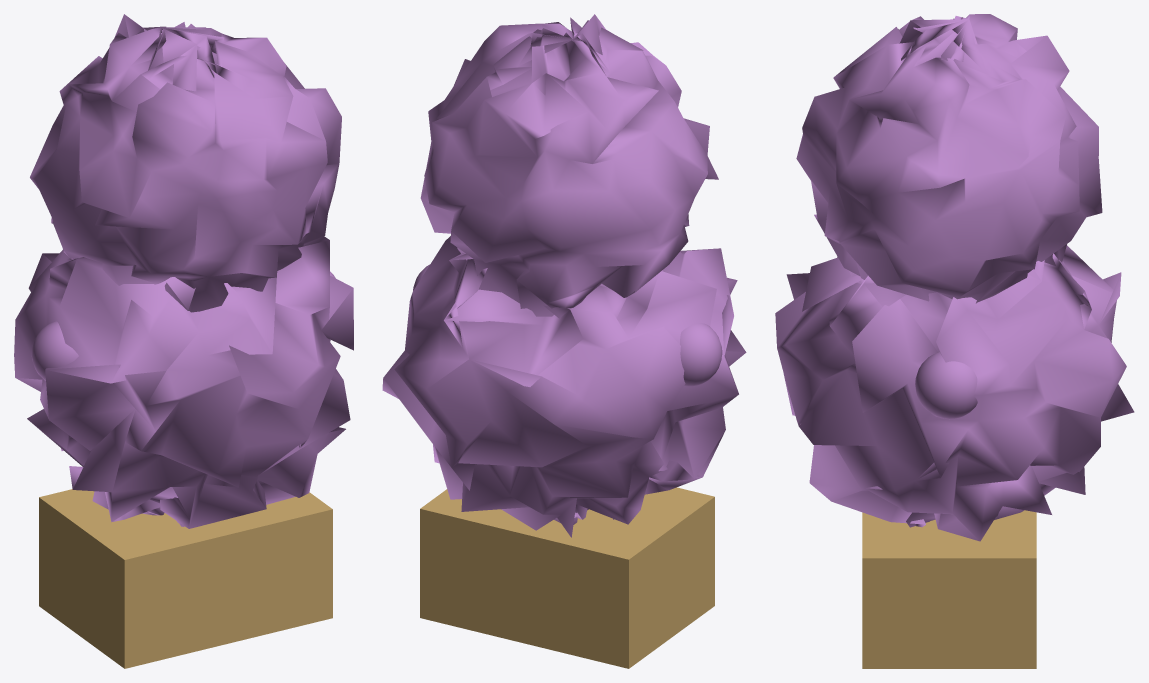
The model's file is clay_loot_goblin.glb.
The picture shows the model from 3 angles, left to right: view 1: azimuth 30°, elevation 25°; view 2: azimuth 150°, elevation 25°; view 3: azimuth 270°, elevation 25°; orthographic projection.
Visible parts, largest first — view 1: chest; view 2: chest; view 3: chest.
Part boxes in pixels (x1=…): chest: x1=14, y1=14, x2=353, y2=668; chest: x1=382, y1=14, x2=746, y2=668; chest: x1=775, y1=14, x2=1134, y2=668.
Size of the model in its own units: 1.03 by 1.88 by 1.03.
